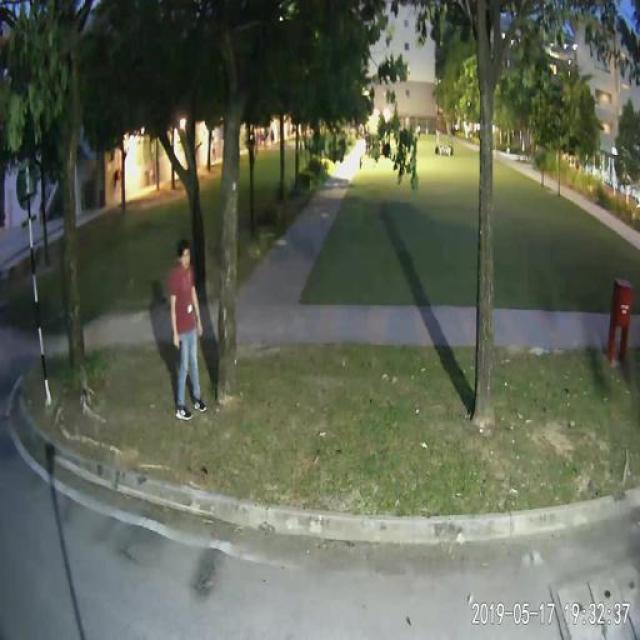Gun: (167, 335, 195, 369)
